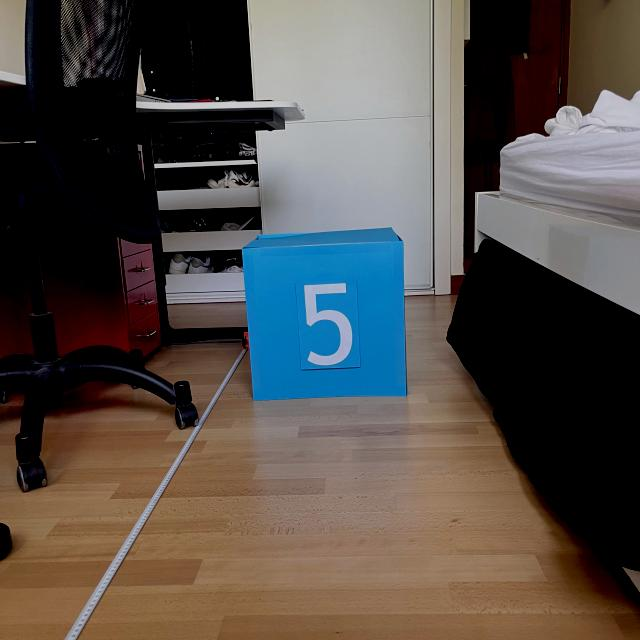box: (237, 223, 411, 402)
